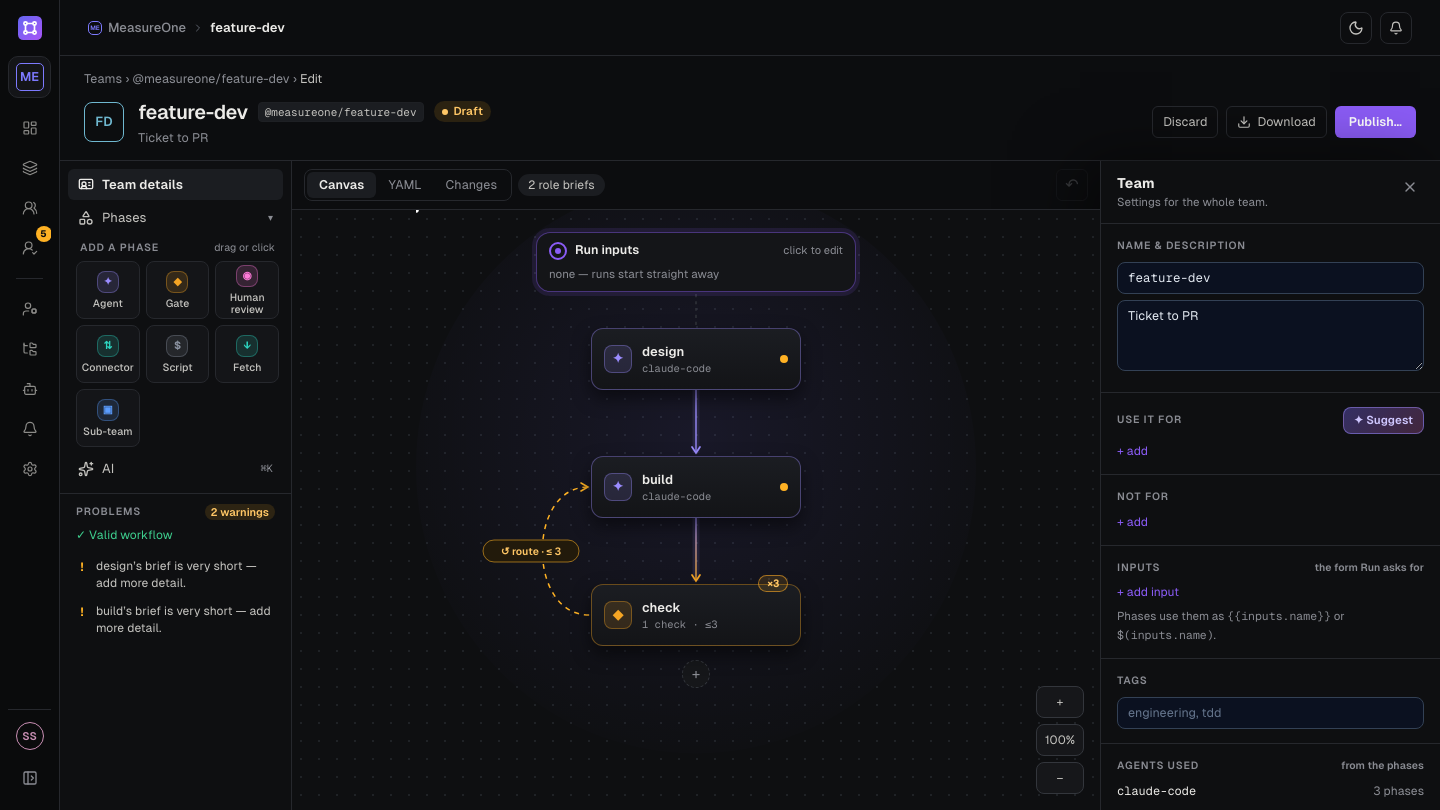
Test: Graphite builder — workspace › a local problem (gate with no checks) shows once in the Problems list, plus a dot on the node
This screenshot has width=1440, height=810.
Expected: the element with test id "canvas" is shown, 292,210 -> 1100,809
Click the button "◆ check 1 check · ≤3 ×3" at (696, 615), box 591,584 -> 801,646
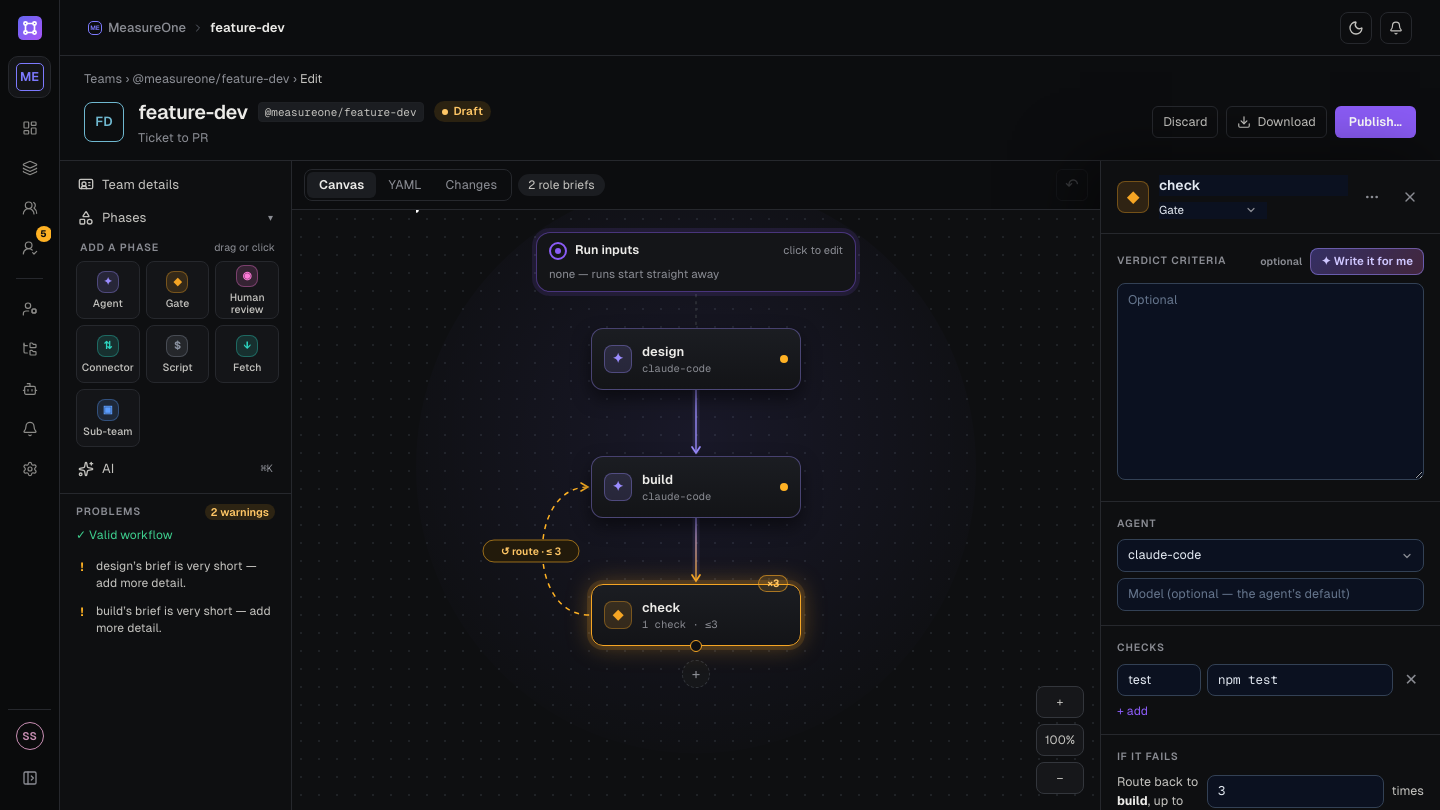
Click the button named "Remove command 1" at (1411, 680), box 1399,664 -> 1424,696
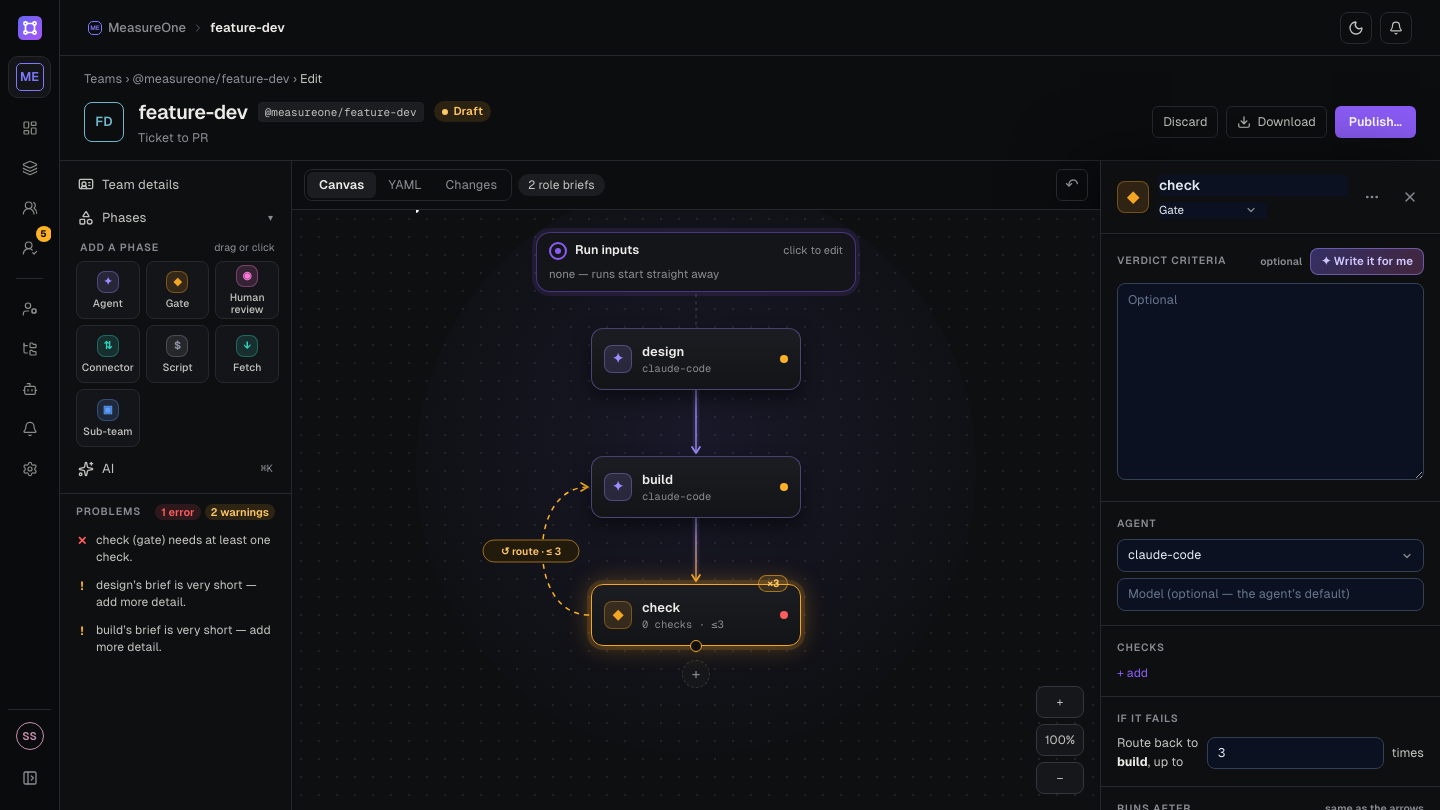
Expected: the text "1 error" is shown, 155,504 -> 201,520
Expected: the element with test id "problem-check" is shown, 780,611 -> 788,619
Press Escape
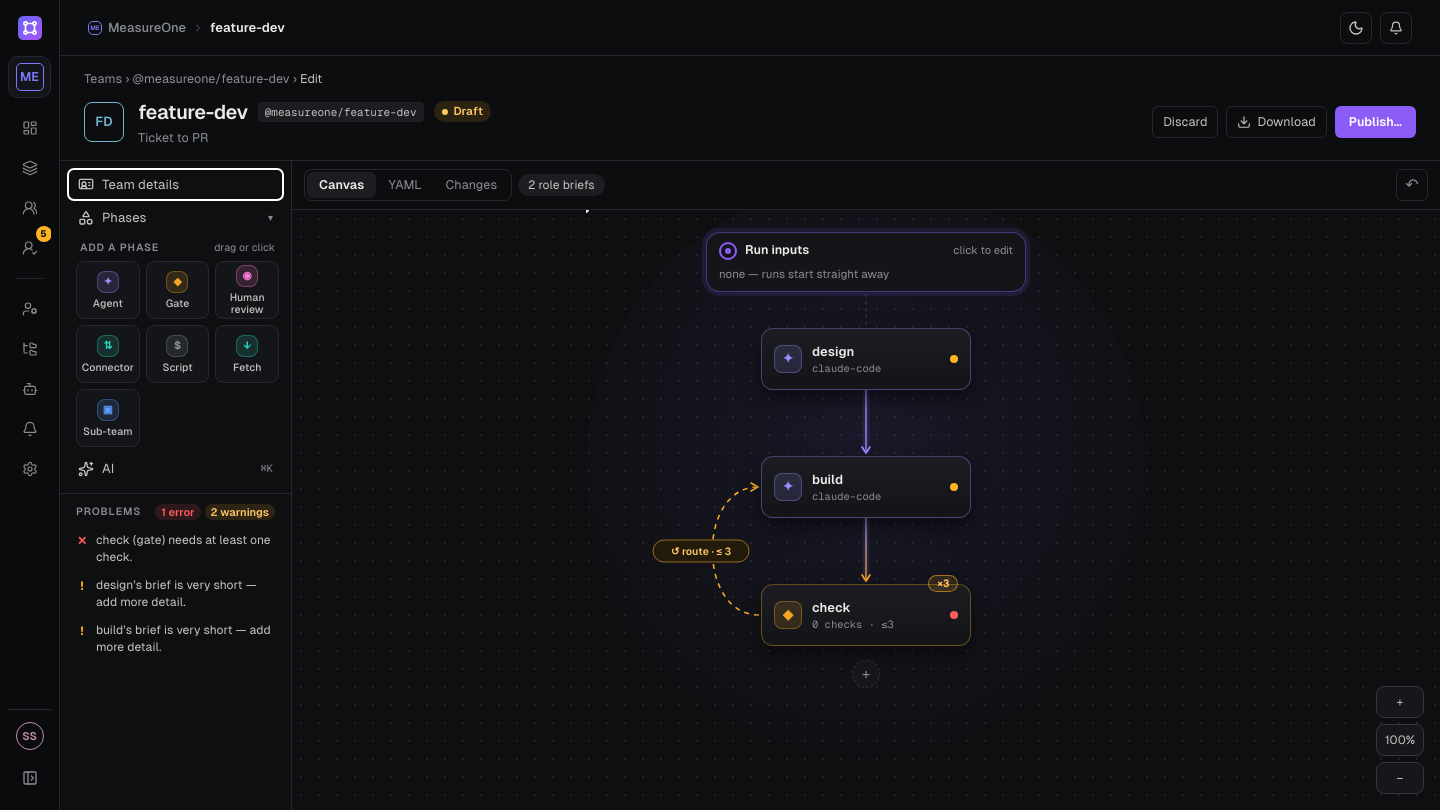
Expected: the element with test id "inspector" is gone
Click the button titled "Open check" at (176, 549), box 68,526 -> 283,571
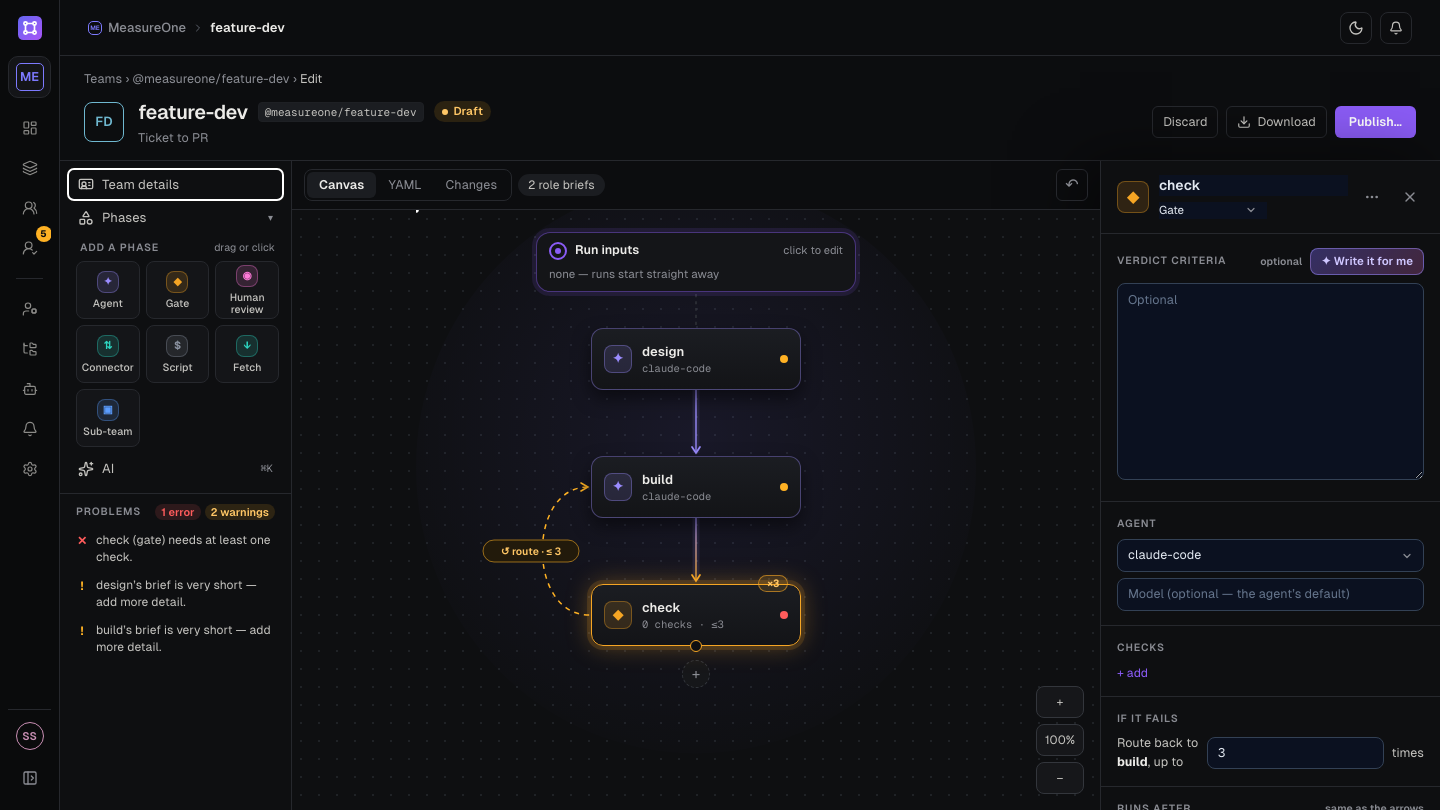
Expected: the field named "Phase name" holds "check", 1159,174 -> 1348,196
